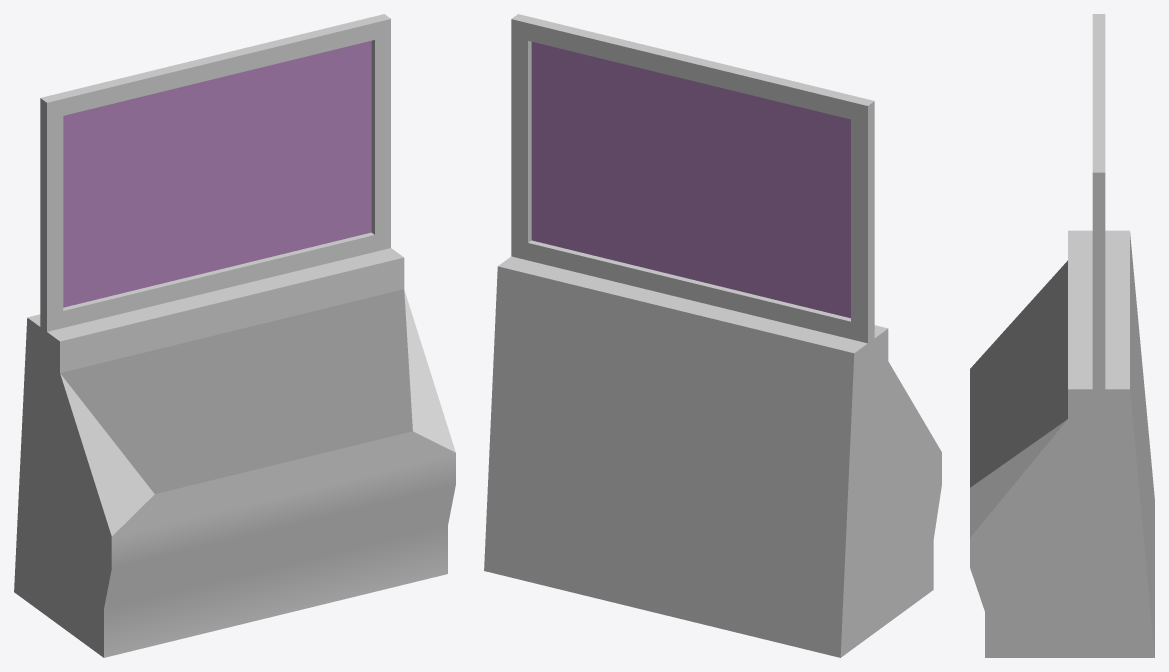
The model's file is consoleScreen.fbx.
3 views of the same model, side by side, from view 1: azimuth 30°, elevation 25°; view 2: azimuth 150°, elevation 25°; view 3: azimuth 270°, elevation 25° (orthographic). The views are drawn at different scales.
Parts seen in each view (by area): view 1: consoleScreen; view 2: consoleScreen; view 3: consoleScreen.
Part boxes in pixels (<box>): consoleScreen: <box>14,14,455,657</box>; consoleScreen: <box>484,14,941,657</box>; consoleScreen: <box>970,14,1154,657</box>.
Bounding box in the file's own units: 456 × 650 × 224.
